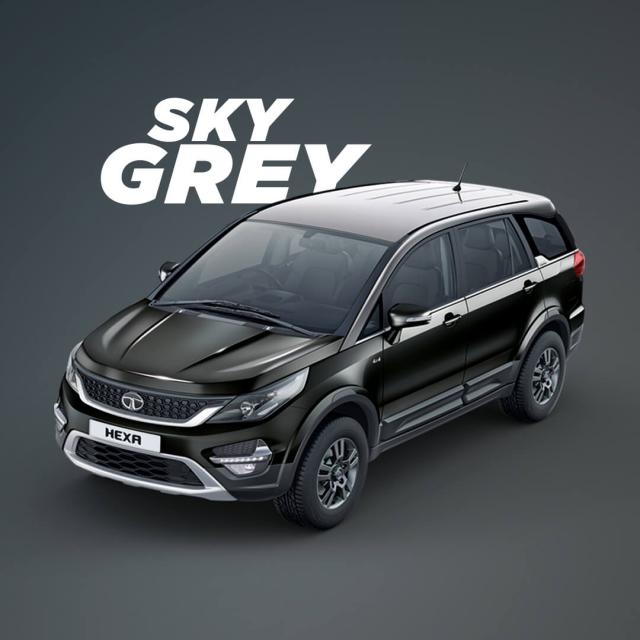Car: (51, 171, 598, 528)
